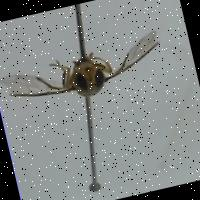Oriental-fruit-fly: (0, 10, 178, 122)
